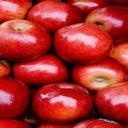apple: (53, 22, 114, 66)
